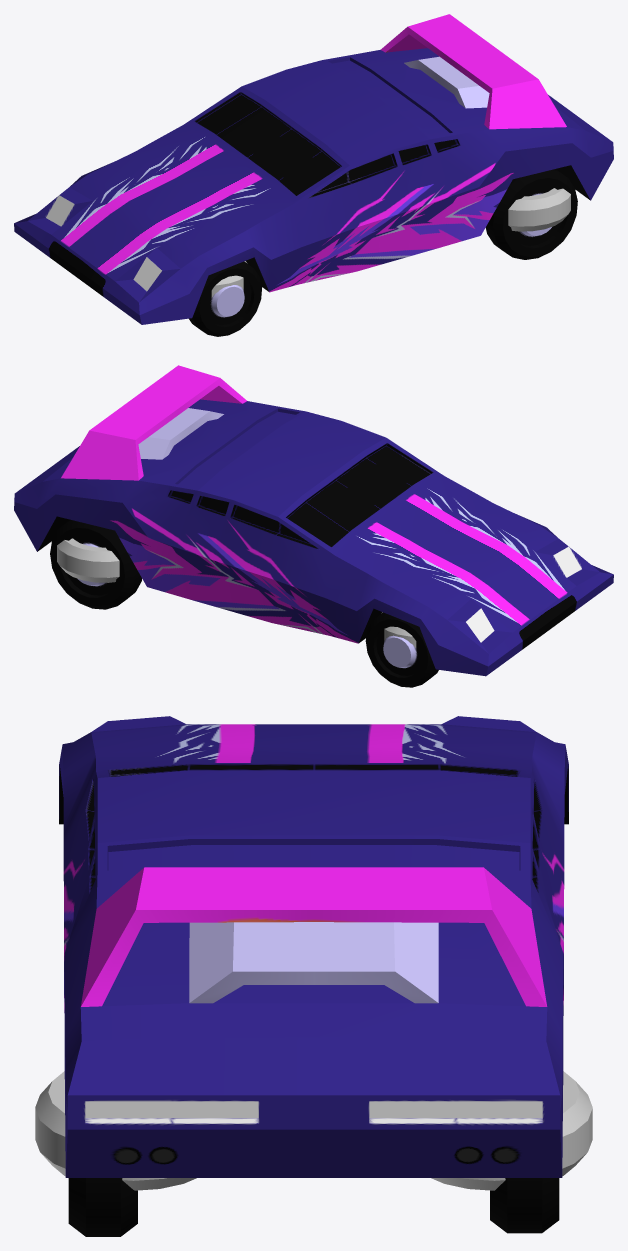
Rendered from TEXTURIZADO_COCHE.fbx.
3 views of the same model, one above another, from view 1: azimuth 30°, elevation 25°; view 2: azimuth 150°, elevation 25°; view 3: azimuth 270°, elevation 25° (orthographic). The views are drawn at different scales.
Parts seen in each view (by area): view 1: COCHE, RUEDA II, RUEDA SI, NAVE II; view 2: COCHE, RUEDA DI, RUEDA DS, NAVE DI; view 3: COCHE, RUEDA II, RUEDA DI, NAVE II, NAVE DI.
Part boxes in pixels (<box>): COCHE: <box>14,14,613,324</box>; RUEDA II: <box>485,169,577,259</box>; RUEDA SI: <box>189,261,261,336</box>; NAVE II: <box>508,188,570,231</box>; COCHE: <box>14,365,613,676</box>; RUEDA DI: <box>50,520,141,609</box>; RUEDA DS: <box>365,612,438,687</box>; NAVE DI: <box>57,538,119,582</box>; COCHE: <box>59,716,568,1177</box>; RUEDA II: <box>68,1178,137,1236</box>; RUEDA DI: <box>490,1178,559,1233</box>; NAVE II: <box>35,1071,196,1190</box>; NAVE DI: <box>431,1071,592,1190</box>.
Size of the model in its own units: 355 by 121 by 180.
